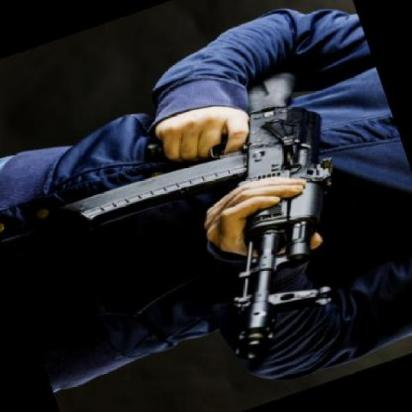Gun: (36, 50, 398, 404)
